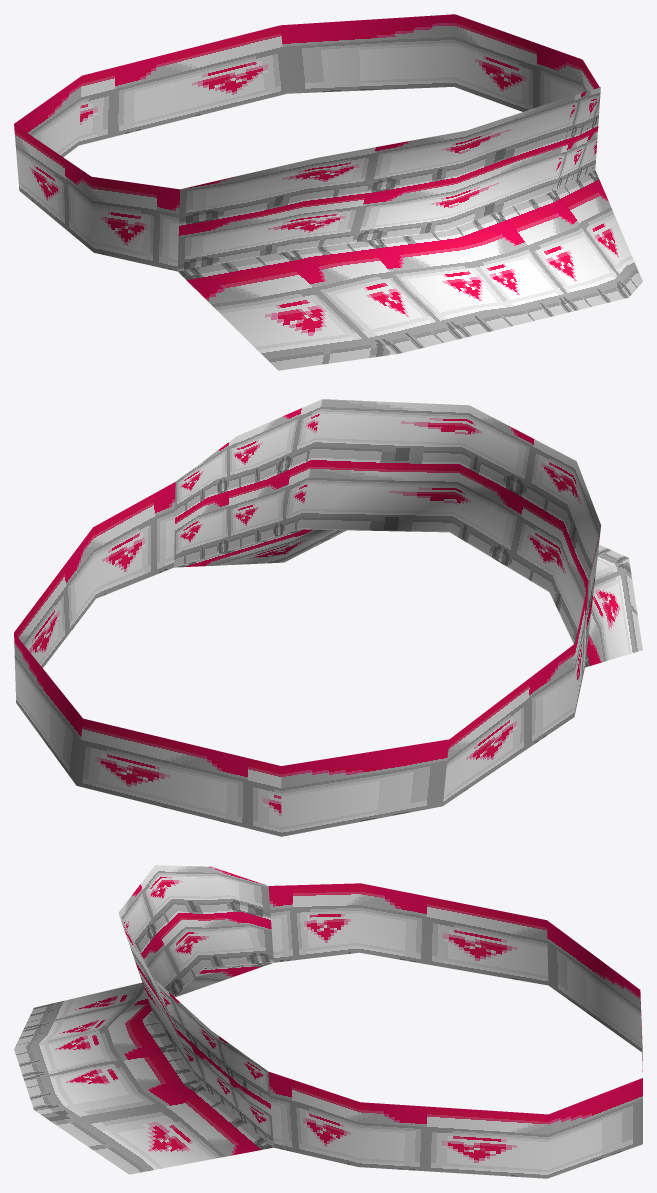
File: 2929head079_c.gltf
The picture shows the model from 3 angles, top to bottom: view 1: azimuth 30°, elevation 25°; view 2: azimuth 150°, elevation 25°; view 3: azimuth 270°, elevation 25°; orthographic projection. The views are drawn at different scales.
Parts seen in each view (by area): view 1: 2929head079_c; view 2: 2929head079_c; view 3: 2929head079_c.
Part boxes in pixels (x1,y1,x2,y2): 2929head079_c: (14,14,642,370); 2929head079_c: (14,399,642,836); 2929head079_c: (14,865,642,1178).
Bounding box in the file's own units: 0.8677 × 0.3428 × 1.06.
1 material, 1 textured.
